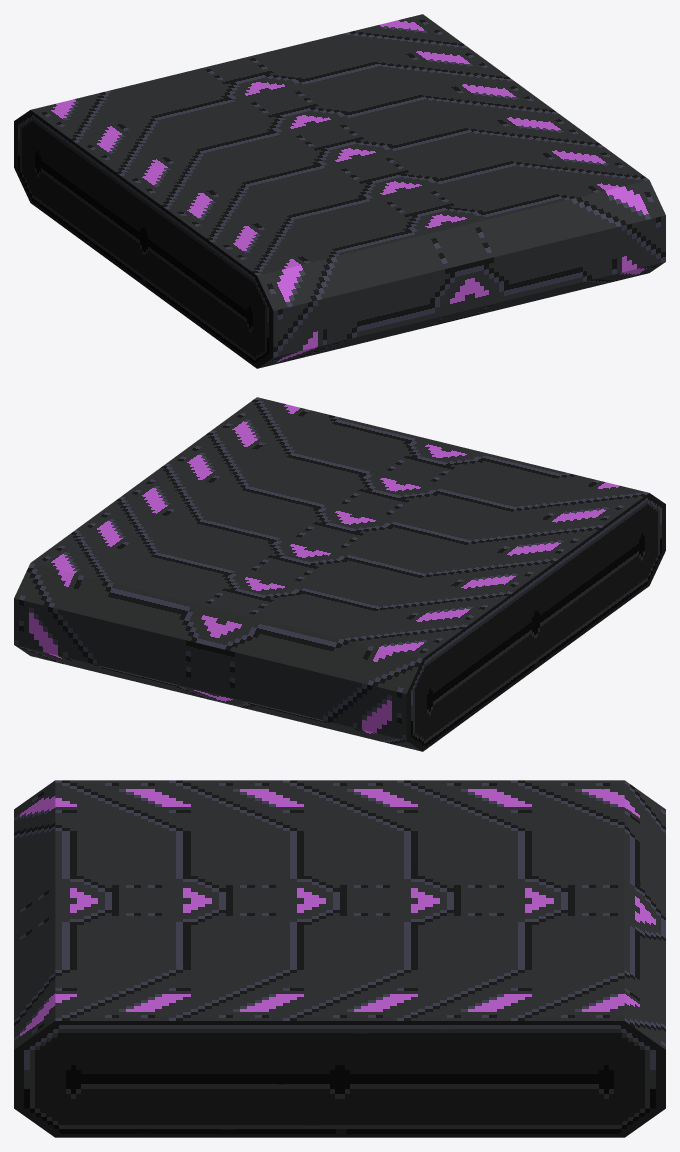
File: conveyer.gltf
3 renders of one model, top to bottom at view 1: azimuth 30°, elevation 25°; view 2: azimuth 150°, elevation 25°; view 3: azimuth 270°, elevation 25°, orthographic. The views are drawn at different scales.
Parts seen in each view (by area): view 1: ConveyorBase.001; view 2: ConveyorBase.001; view 3: ConveyorBase.001.
Boxes of the visible parts, left/top/right/bottom form: ConveyorBase.001: left=14, top=14, right=665, bottom=368; ConveyorBase.001: left=14, top=397, right=665, bottom=751; ConveyorBase.001: left=14, top=780, right=665, bottom=1137.
Size of the model in its own units: 2 by 0.4533 by 2.29.
2 materials, 2 textured.
